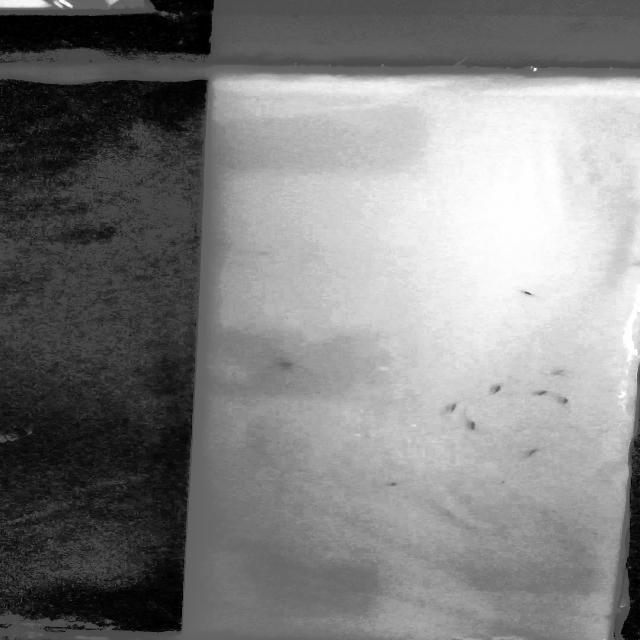shrimp: (436, 399, 464, 413), (460, 420, 487, 432), (489, 384, 513, 395), (278, 359, 295, 374), (518, 446, 541, 456), (558, 393, 574, 406), (385, 479, 407, 488), (532, 389, 550, 400), (520, 291, 541, 298), (497, 478, 509, 486)
